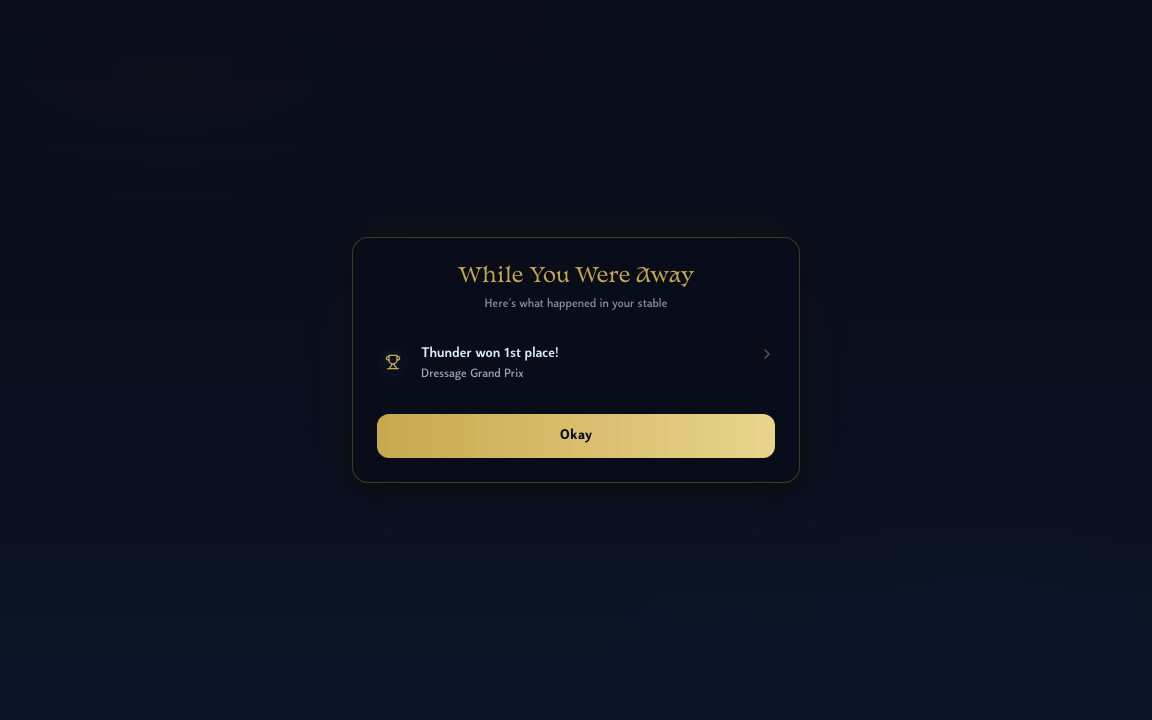
Test: WhileYouWereGone last-visit timing (Equoria-oey96.53) › following an item link inside the overlay counts as dismissal
Click the link "Thunder won 1st place! Dressage Grand Prix".
click(393, 362)  # box [377,346,775,380]
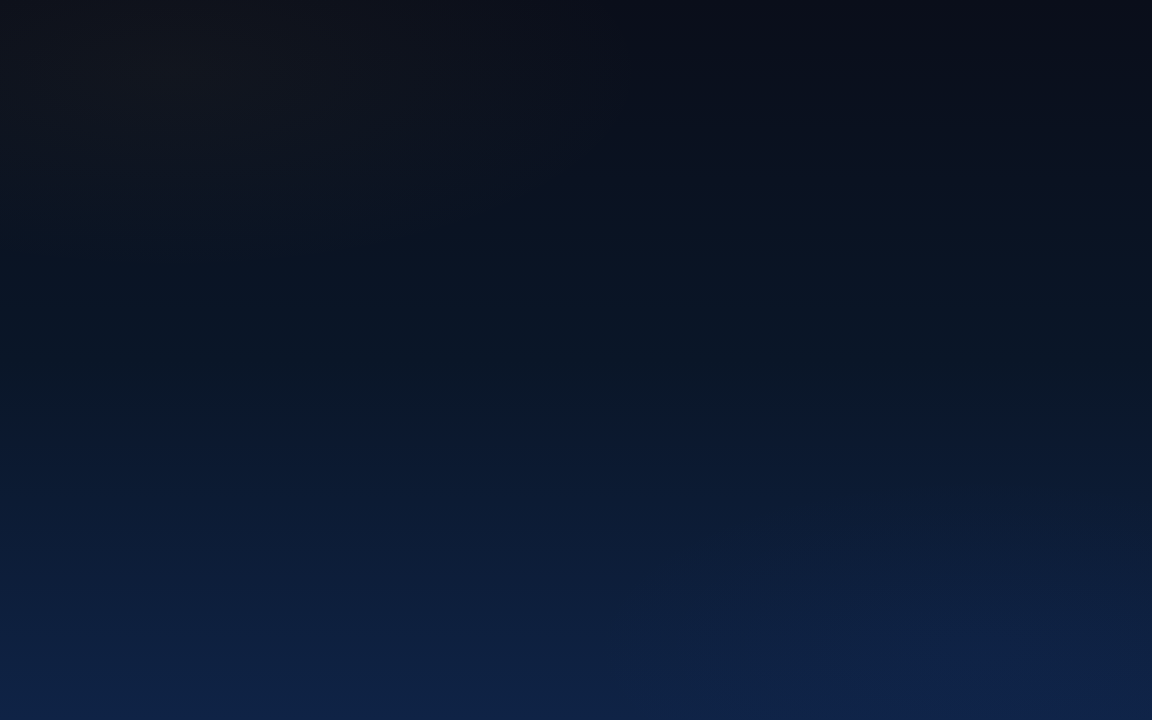
expect the dialog is gone: met
